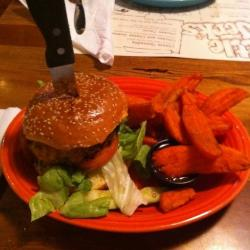burger: (26, 74, 132, 206)
fries: (142, 76, 250, 190)
